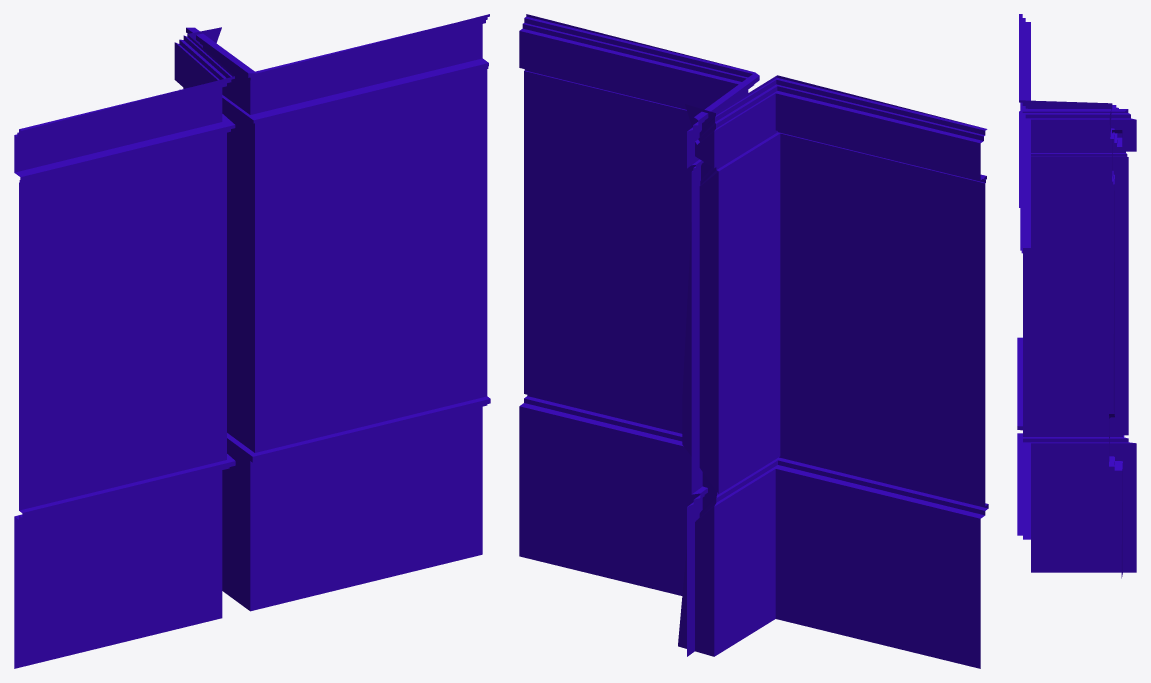
File: Prop_WallExtAlley9x10_01.fbx
The picture shows the model from 3 angles, left to right: view 1: azimuth 30°, elevation 25°; view 2: azimuth 150°, elevation 25°; view 3: azimuth 270°, elevation 25°; orthographic projection. The views are drawn at different scales.
Visible parts, largest first — view 1: polySurface118; view 2: polySurface118; view 3: polySurface118.
Part boxes in pixels (bbox=[...]): polySurface118: bbox=[14, 14, 490, 668]; polySurface118: bbox=[519, 14, 988, 668]; polySurface118: bbox=[1017, 14, 1136, 578].
Bounding box in the file's own units: 900 × 1002 × 234.
